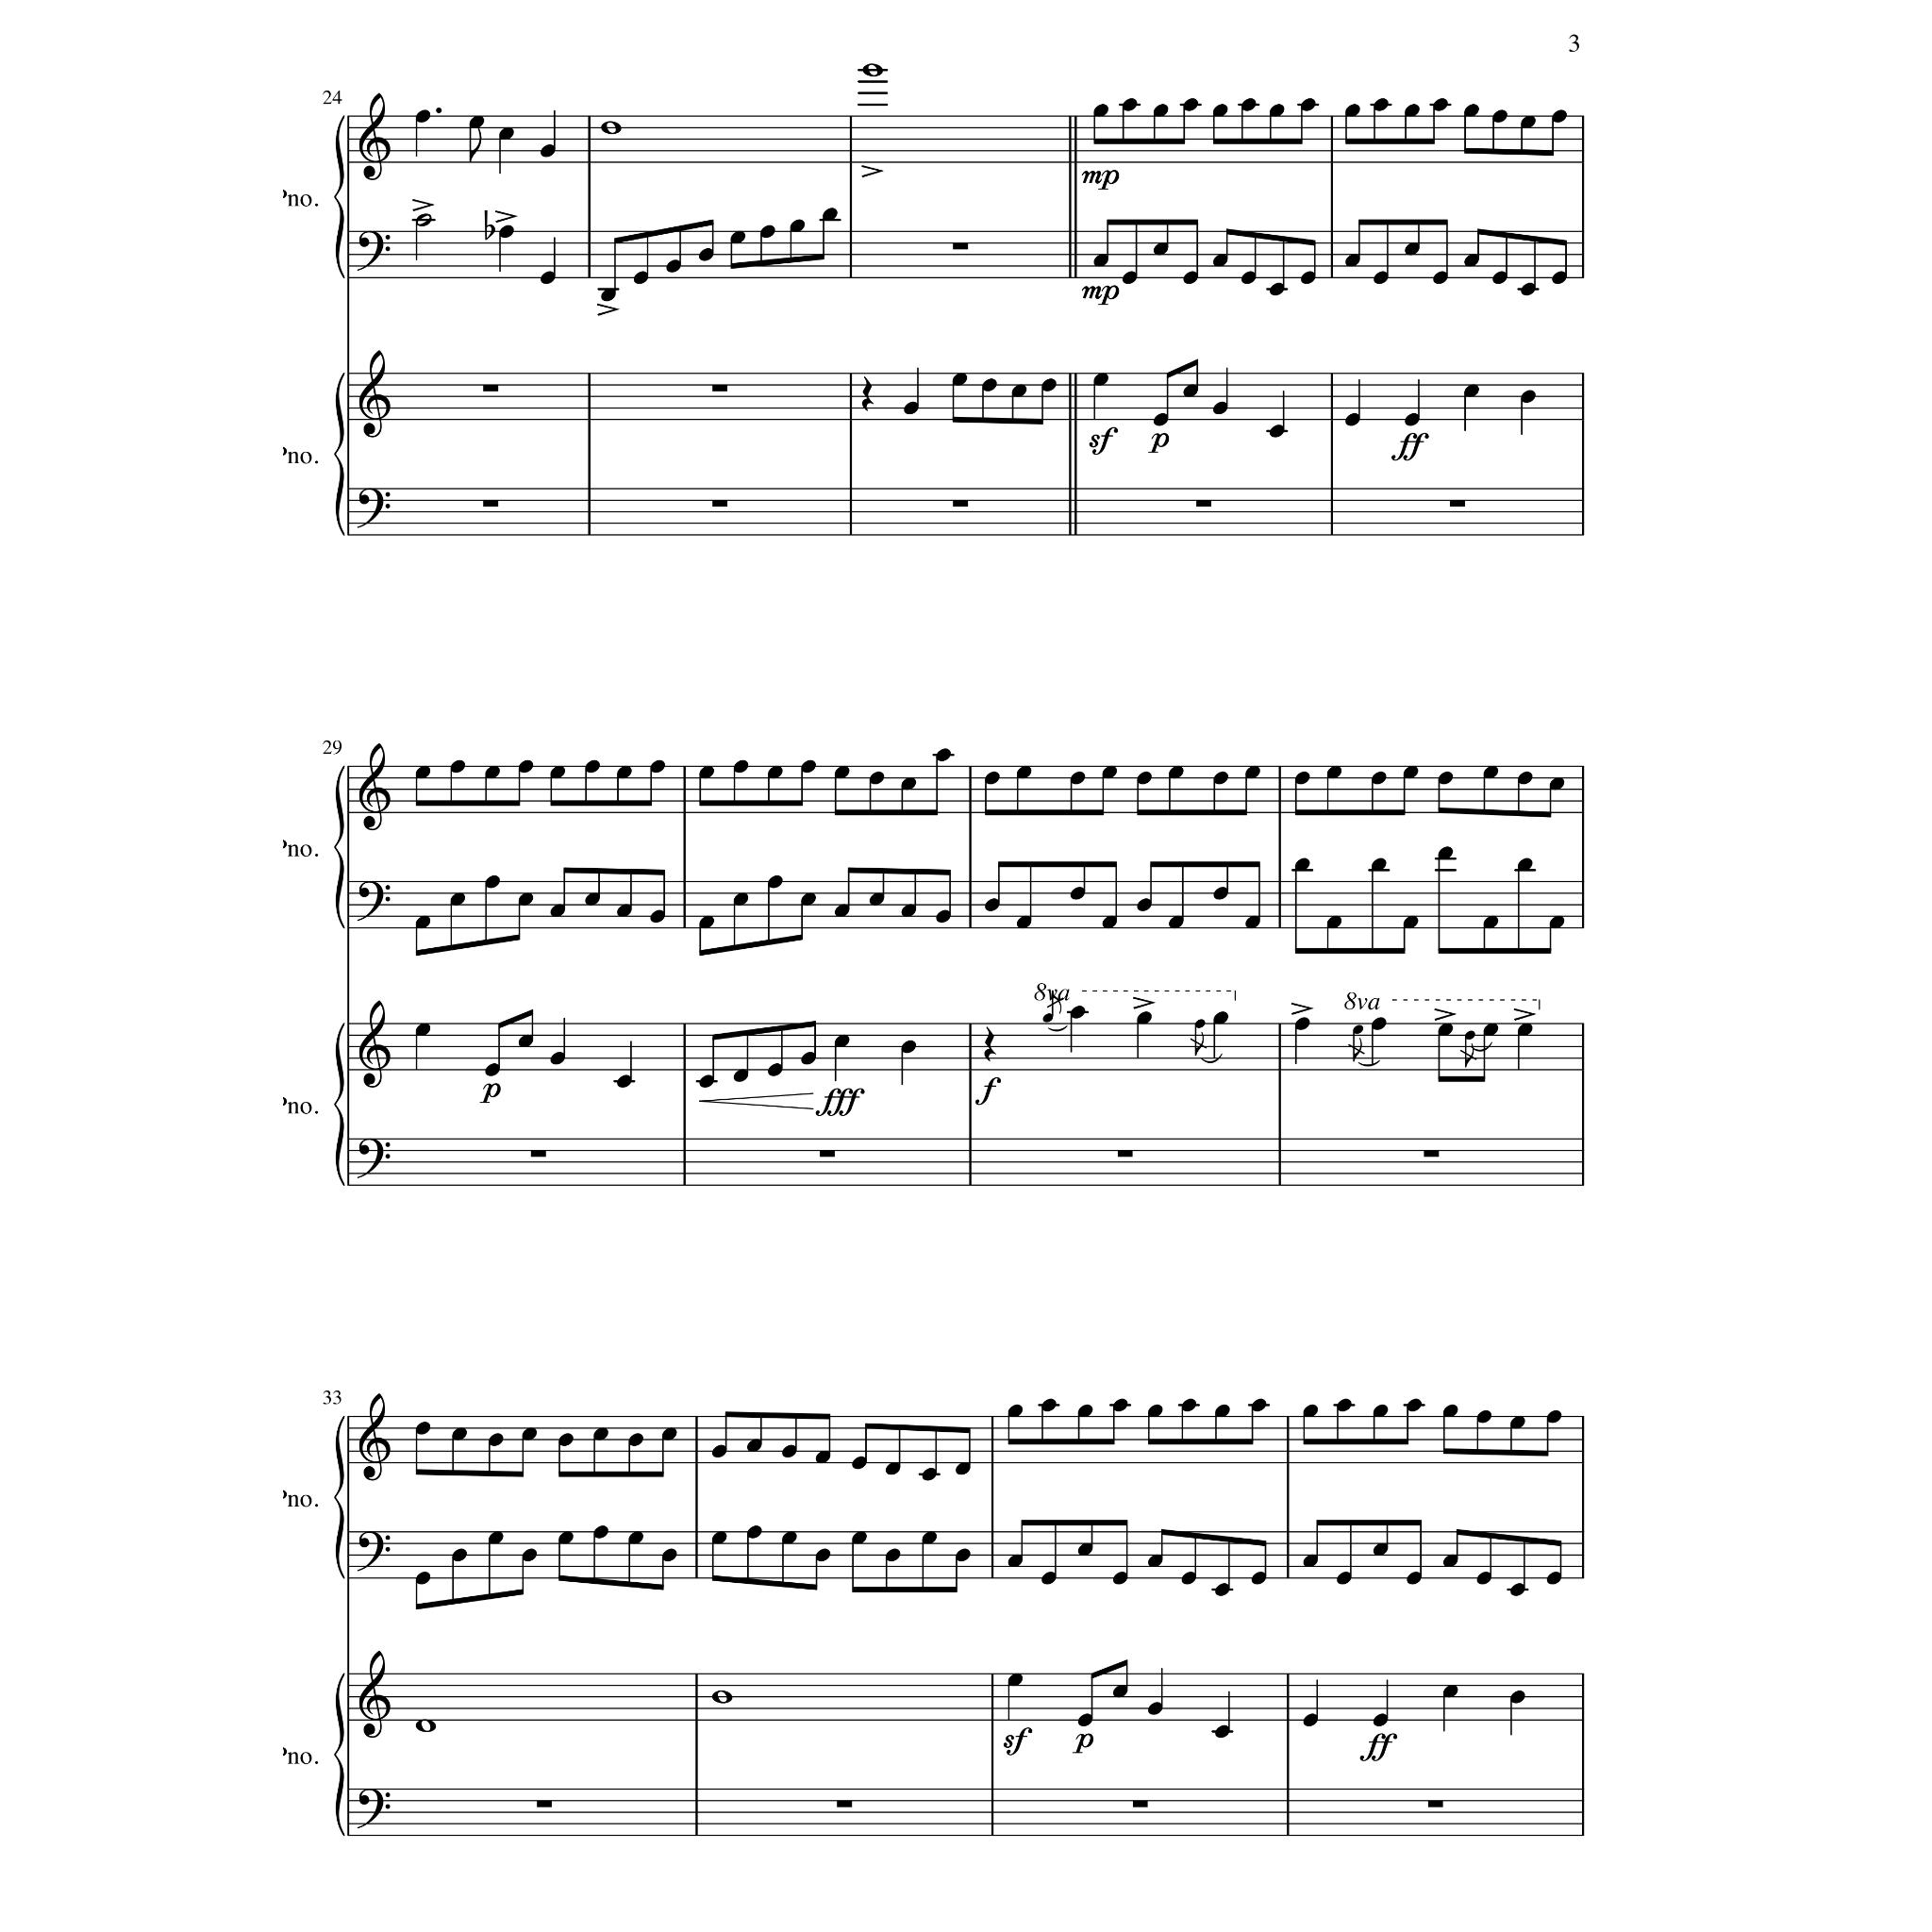brace: (333, 115, 345, 280), (333, 764, 345, 929), (333, 1023, 345, 1187), (333, 1415, 345, 1580), (333, 373, 345, 536), (333, 1674, 345, 1836)
fClef: (357, 230, 391, 271), (357, 488, 391, 529), (357, 1138, 391, 1178), (357, 881, 391, 922), (357, 1532, 391, 1573), (357, 1789, 391, 1829)
flag8thDown: (1189, 1031, 1207, 1063), (1348, 1037, 1366, 1069), (1460, 1042, 1477, 1074), (469, 129, 481, 163)
flag8thUp: (1046, 984, 1063, 1014)
gClef: (359, 92, 391, 180), (359, 350, 391, 439), (359, 1000, 391, 1088), (359, 743, 391, 832), (359, 1392, 391, 1481), (359, 1651, 391, 1739)
noteheadBlack: (759, 225, 777, 239), (517, 892, 534, 906), (1214, 1725, 1231, 1739), (745, 1438, 763, 1453), (745, 1525, 763, 1539), (1345, 104, 1361, 119), (1300, 97, 1316, 111), (1345, 253, 1361, 267), (1182, 97, 1198, 111), (1152, 104, 1168, 119), (1240, 97, 1256, 111), (1269, 104, 1284, 119), (1212, 104, 1228, 119), (1212, 253, 1228, 267), (1212, 402, 1228, 416), (1552, 110, 1568, 124), (1520, 115, 1536, 129), (1433, 97, 1449, 111), (1373, 97, 1389, 111), (1491, 110, 1507, 124), (1463, 253, 1479, 267), (1463, 104, 1479, 119), (540, 143, 556, 157), (600, 288, 616, 303), (697, 248, 713, 262), (665, 260, 681, 274), (469, 115, 485, 129), (499, 225, 515, 239), (414, 110, 430, 124), (1093, 104, 1109, 119), (1093, 253, 1109, 267), (1040, 379, 1056, 393), (1122, 97, 1138, 111), (982, 379, 998, 393), (789, 219, 805, 234), (823, 207, 839, 221), (904, 402, 920, 416), (1246, 766, 1261, 780), (1246, 915, 1261, 929), (1168, 915, 1184, 929), (1212, 771, 1228, 786), (1212, 886, 1228, 901), (1293, 771, 1309, 786), (1293, 1017, 1309, 1031), (1016, 915, 1031, 929), (1069, 771, 1085, 786), (1069, 886, 1085, 901), (1069, 1005, 1085, 1019), (1016, 766, 1031, 780), (1136, 771, 1152, 786), (1168, 766, 1184, 780), (1102, 766, 1118, 780), (1102, 915, 1118, 929), (1548, 777, 1564, 791), (1548, 915, 1564, 929), (1516, 771, 1532, 786), (1371, 771, 1387, 786), (1371, 1017, 1387, 1031), (1325, 915, 1341, 929), (1325, 766, 1341, 780), (1483, 766, 1499, 780), (1483, 915, 1499, 929), (1403, 766, 1419, 780), (1403, 915, 1419, 929), (1437, 771, 1453, 786), (1437, 846, 1453, 860), (584, 892, 600, 906), (550, 766, 566, 780), (550, 904, 566, 918), (699, 915, 715, 929), (699, 766, 715, 780), (414, 766, 430, 780), (414, 915, 430, 929), (485, 766, 501, 780), (485, 876, 501, 890), (449, 892, 465, 906), (869, 771, 885, 786), (869, 892, 885, 906), (901, 777, 916, 791), (901, 904, 916, 918), (901, 1040, 916, 1054), (833, 766, 849, 780), (833, 904, 849, 918), (732, 892, 748, 906), (732, 1069, 748, 1083), (766, 766, 782, 780), (800, 892, 816, 906), (766, 876, 782, 890), (1251, 1398, 1267, 1412), (1251, 1571, 1267, 1585), (1302, 1713, 1318, 1727), (1077, 1543, 1093, 1557), (1077, 1713, 1093, 1727), (1040, 1398, 1056, 1412), (1040, 1571, 1056, 1585), (1180, 1398, 1196, 1412), (1180, 1571, 1196, 1585), (1111, 1398, 1127, 1412), (1111, 1571, 1127, 1585), (1111, 1684, 1127, 1698), (1546, 1410, 1562, 1424), (1546, 1571, 1562, 1585), (1509, 1415, 1525, 1430), (1373, 1543, 1389, 1557), (1373, 1713, 1389, 1727), (1336, 1398, 1352, 1412), (1336, 1571, 1352, 1585), (1476, 1410, 1491, 1424), (1476, 1571, 1491, 1585), (1407, 1398, 1422, 1412), (1407, 1571, 1422, 1585), (1444, 1684, 1460, 1698), (557, 1530, 573, 1545), (593, 1525, 609, 1539), (711, 1444, 727, 1458), (628, 1530, 644, 1545), (487, 1530, 502, 1545), (414, 1571, 430, 1585), (711, 1530, 727, 1545), (922, 1530, 938, 1545), (851, 1456, 867, 1470), (851, 1530, 867, 1545), (885, 1461, 901, 1476), (814, 1451, 830, 1465), (782, 1444, 798, 1458), (782, 1530, 798, 1545), (517, 761, 534, 773), (517, 1035, 534, 1047), (1214, 1405, 1231, 1417), (1214, 1583, 1231, 1596), (1405, 104, 1419, 119), (617, 766, 632, 780), (617, 904, 632, 918), (985, 771, 1000, 786), (955, 1461, 970, 1476), (1300, 272, 1316, 285), (1345, 414, 1361, 426), (1182, 272, 1198, 285), (1182, 386, 1198, 398), (1152, 242, 1168, 255), (1152, 414, 1168, 426), (1240, 272, 1256, 285), (1269, 283, 1284, 295), (1269, 425, 1284, 437), (1552, 272, 1568, 285), (1520, 283, 1536, 295), (1520, 391, 1536, 403), (1433, 272, 1449, 285), (1373, 272, 1389, 285), (1491, 272, 1507, 285), (1463, 386, 1479, 398), (540, 272, 556, 285), (499, 127, 515, 140), (729, 232, 745, 244), (1093, 373, 1109, 386), (1010, 386, 1026, 398), (1122, 272, 1138, 285), (952, 373, 968, 386), (1212, 1012, 1228, 1024), (1293, 858, 1309, 870), (1136, 899, 1152, 911), (1136, 1012, 1152, 1024), (1516, 858, 1532, 870), (1516, 1023, 1532, 1035), (1371, 858, 1387, 870), (1483, 1023, 1499, 1035), (1437, 1023, 1453, 1035), (550, 1053, 566, 1065), (584, 761, 600, 773), (649, 911, 665, 924), (649, 761, 665, 773), (414, 1023, 430, 1035), (485, 1063, 501, 1076), (699, 1076, 715, 1088), (449, 761, 465, 773), (833, 1035, 849, 1047), (936, 748, 952, 761), (936, 911, 952, 924), (732, 761, 748, 773), (800, 761, 816, 773), (800, 1053, 816, 1065), (766, 1063, 782, 1076), (1302, 1405, 1318, 1417), (1302, 1555, 1318, 1568), (1077, 1405, 1093, 1417), (1148, 1405, 1164, 1417), (1148, 1555, 1164, 1568), (1148, 1702, 1164, 1714), (1509, 1583, 1525, 1596), (1509, 1691, 1525, 1704), (1373, 1405, 1389, 1417), (1444, 1405, 1460, 1417), (1444, 1555, 1460, 1568), (557, 1433, 573, 1445), (593, 1428, 609, 1440), (522, 1428, 538, 1440), (522, 1548, 538, 1560), (628, 1433, 644, 1445), (662, 1428, 678, 1440), (662, 1548, 678, 1560), (451, 1428, 467, 1440), (451, 1548, 467, 1560), (487, 1433, 502, 1445), (414, 1422, 430, 1435), (922, 1468, 938, 1481), (885, 1548, 901, 1560), (1007, 1405, 1023, 1417), (1007, 1555, 1023, 1568), (1007, 1674, 1023, 1686), (814, 1548, 830, 1560), (1405, 242, 1419, 255), (1405, 414, 1419, 426), (633, 272, 648, 285), (617, 1076, 632, 1088), (985, 899, 1000, 911), (955, 1548, 970, 1560), (1042, 1012, 1053, 1023), (1194, 1019, 1205, 1028), (1352, 1024, 1362, 1033), (1465, 1031, 1476, 1040)
noteheadHalf: (416, 214, 432, 228)
noteheadWhole: (414, 1718, 437, 1732), (862, 64, 883, 78), (711, 1690, 732, 1704), (600, 122, 623, 134)
restQuarter: (862, 377, 874, 412), (984, 1026, 996, 1062)
restWhole: (1426, 1799, 1444, 1808), (1132, 1799, 1148, 1808), (837, 1799, 853, 1808), (536, 1799, 552, 1808), (1196, 501, 1212, 508), (952, 501, 968, 508), (952, 244, 968, 251), (711, 501, 727, 508), (711, 386, 727, 393), (1449, 501, 1465, 508), (483, 386, 499, 393), (483, 501, 499, 508), (819, 1150, 835, 1157), (1116, 1150, 1132, 1157), (529, 1150, 545, 1157), (1422, 1150, 1438, 1157)
